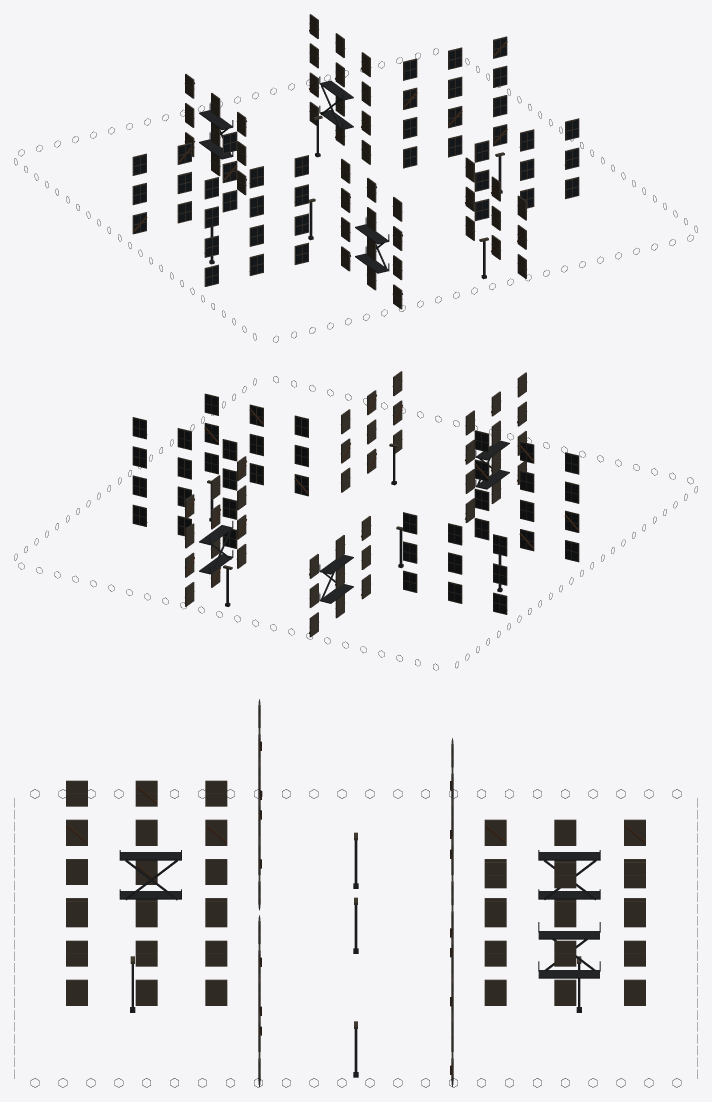
Rendered from street_details.obj.
3 views of the same model, one above another, from view 1: azimuth 30°, elevation 25°; view 2: azimuth 150°, elevation 25°; view 3: azimuth 270°, elevation 25° (orthographic). The views are drawn at different scales.
Visible parts, largest first — view 1: street_details; view 2: street_details; view 3: street_details.
Boxes of the visible parts, box(x1,y1,x2,y2) form: street_details: box(14, 14, 697, 342); street_details: box(14, 371, 697, 670); street_details: box(14, 699, 697, 1087).
Bounding box in the file's own units: 49.02 × 12.7 × 49.02.
